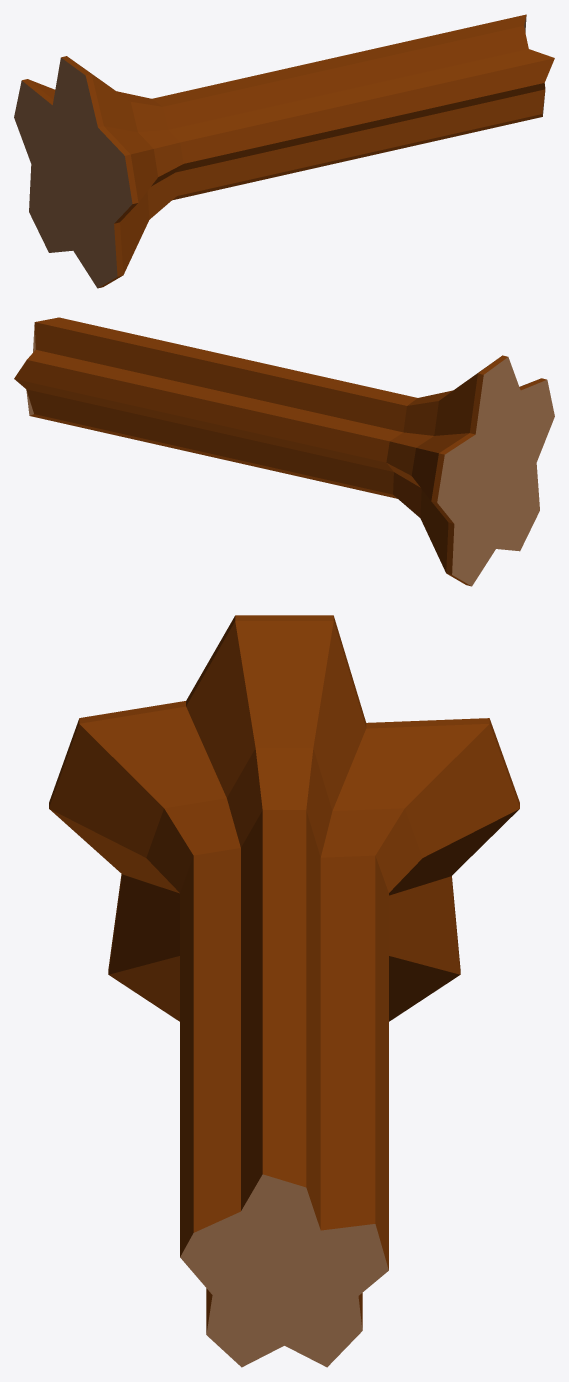
Rendered from Fallen Tree.fbx.
The picture shows the model from 3 angles, top to bottom: view 1: azimuth 30°, elevation 25°; view 2: azimuth 150°, elevation 25°; view 3: azimuth 270°, elevation 25°; orthographic projection. The views are drawn at different scales.
Visible parts, largest first — view 1: Fallen_Tree; view 2: Fallen_Tree; view 3: Fallen_Tree.
Part boxes in pixels (x1,y1,x2,y2): Fallen_Tree: (14,14,554,288); Fallen_Tree: (14,317,554,586); Fallen_Tree: (49,615,519,1367).
Size of the model in its own units: 4.32 by 1.84 by 1.93.
